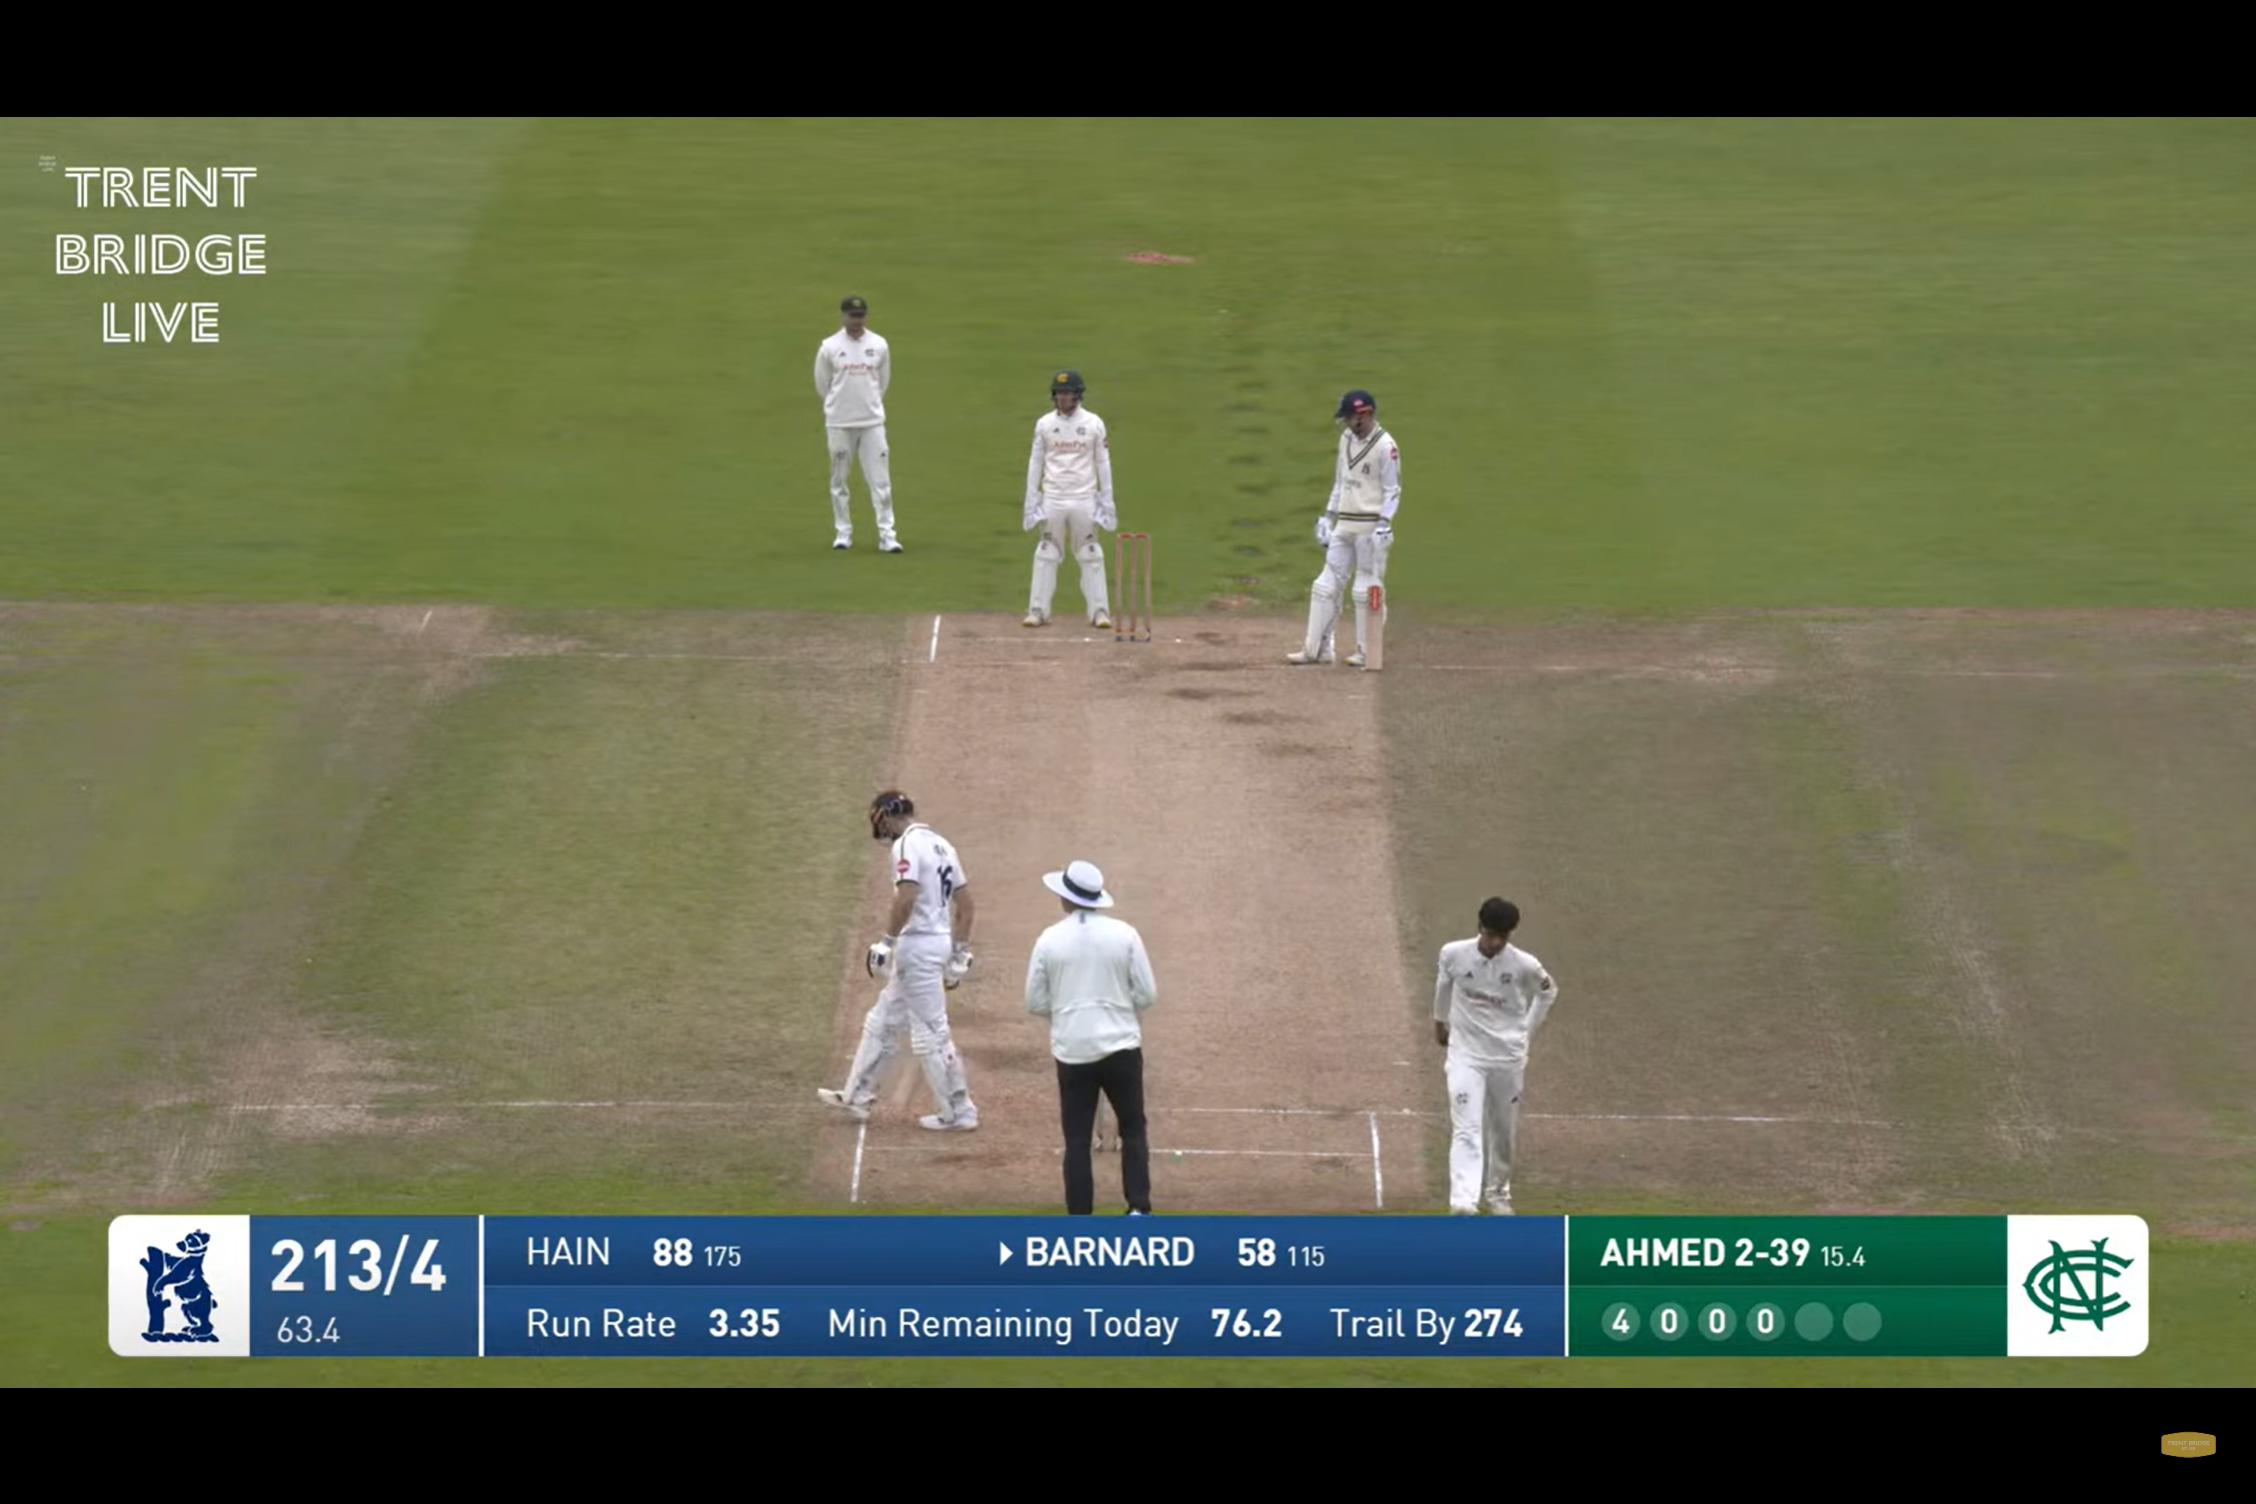batsman: (1271, 361, 1455, 685)
bowler walking back: (1392, 883, 1601, 1209)
non striker: (812, 782, 995, 1153)
umpire: (1017, 838, 1172, 1209)
wicket keeper: (1000, 346, 1141, 650)
